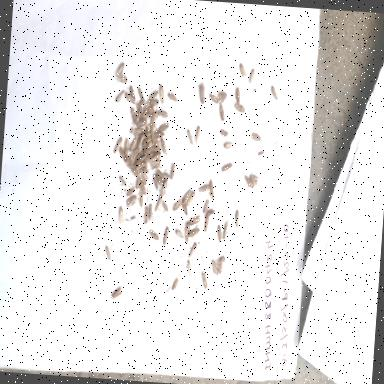pbw: (112, 55, 125, 77), (156, 80, 167, 106), (196, 80, 207, 106), (125, 154, 139, 174), (199, 195, 211, 218), (180, 185, 194, 203), (110, 284, 124, 302), (242, 172, 256, 190), (122, 192, 136, 210), (232, 206, 241, 234), (221, 218, 231, 243), (268, 81, 279, 103), (199, 270, 210, 292), (185, 190, 196, 212), (111, 134, 123, 154), (250, 166, 262, 186), (171, 195, 185, 212), (123, 182, 136, 200), (237, 60, 248, 81), (220, 138, 236, 152), (216, 100, 226, 122), (115, 204, 125, 226), (160, 176, 170, 198), (103, 244, 114, 264), (141, 137, 152, 157), (208, 256, 219, 276), (159, 134, 169, 156), (135, 96, 144, 120), (128, 146, 140, 164), (136, 168, 148, 186), (136, 131, 146, 152), (186, 224, 200, 239), (136, 85, 147, 104), (122, 136, 130, 162), (192, 124, 202, 144), (154, 168, 165, 186), (185, 127, 194, 149), (148, 112, 157, 134), (196, 180, 210, 194), (146, 228, 160, 242), (220, 160, 234, 174), (145, 86, 158, 101), (162, 224, 170, 247), (202, 210, 210, 233), (207, 176, 215, 199), (188, 213, 202, 226), (234, 102, 247, 116), (213, 253, 226, 267), (134, 116, 147, 130), (187, 240, 197, 258), (246, 67, 256, 85), (170, 274, 180, 292), (128, 106, 138, 124), (128, 136, 138, 154), (115, 86, 124, 106), (134, 163, 150, 174), (154, 192, 162, 214), (159, 198, 170, 214), (168, 160, 176, 182), (183, 219, 190, 244), (174, 226, 184, 243), (152, 127, 165, 140), (149, 157, 162, 170), (208, 92, 220, 106), (216, 88, 228, 102), (206, 204, 218, 218), (250, 130, 264, 142), (114, 73, 128, 85), (118, 172, 128, 188), (138, 180, 148, 196), (185, 258, 193, 278), (128, 84, 138, 100), (147, 95, 160, 107), (156, 106, 169, 118), (157, 121, 170, 133), (142, 127, 154, 140), (166, 89, 178, 102), (148, 108, 162, 119), (217, 254, 224, 276), (234, 86, 242, 105), (124, 90, 134, 105), (216, 127, 228, 139), (181, 198, 189, 216), (135, 152, 147, 164), (141, 102, 149, 120), (216, 222, 222, 246), (151, 173, 159, 191), (150, 132, 160, 146), (148, 144, 162, 154), (255, 146, 266, 158), (137, 190, 144, 208), (149, 152, 160, 163), (144, 104, 154, 116), (146, 201, 152, 220), (118, 144, 126, 158), (132, 126, 144, 135), (162, 166, 171, 178), (146, 138, 156, 148), (144, 205, 149, 224)
